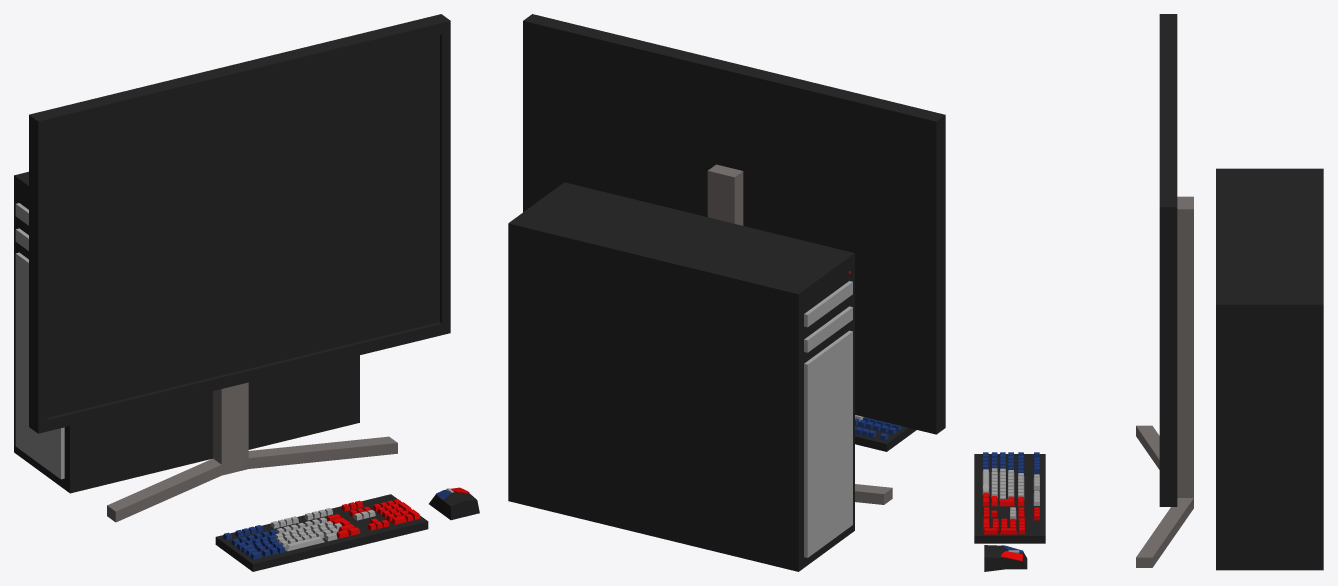
The model's file is Computer (1).fbx.
3 views of the same model, side by side, from view 1: azimuth 30°, elevation 25°; view 2: azimuth 150°, elevation 25°; view 3: azimuth 270°, elevation 25° (orthographic). The views are drawn at different scales.
Parts seen in each view (by area): view 1: pCube8, pCube7, pCube119, pCube120; view 2: pCube7, pCube8, pCube119; view 3: pCube7, pCube8, pCube119, pCube120.
Boxes of the visible parts, x1,y1,x2,y2 form: pCube8: (29,14,450,522); pCube7: (14,171,359,493); pCube119: (215,494,428,571); pCube120: (429,489,479,520); pCube7: (508,182,854,571); pCube8: (523,14,945,504); pCube119: (855,415,916,451); pCube7: (1216,168,1323,570); pCube8: (1136,14,1193,567); pCube119: (974,452,1045,543); pCube120: (984,545,1027,571).
Bounding box in the file's own units: 5.5 × 5.23 × 4.2.
